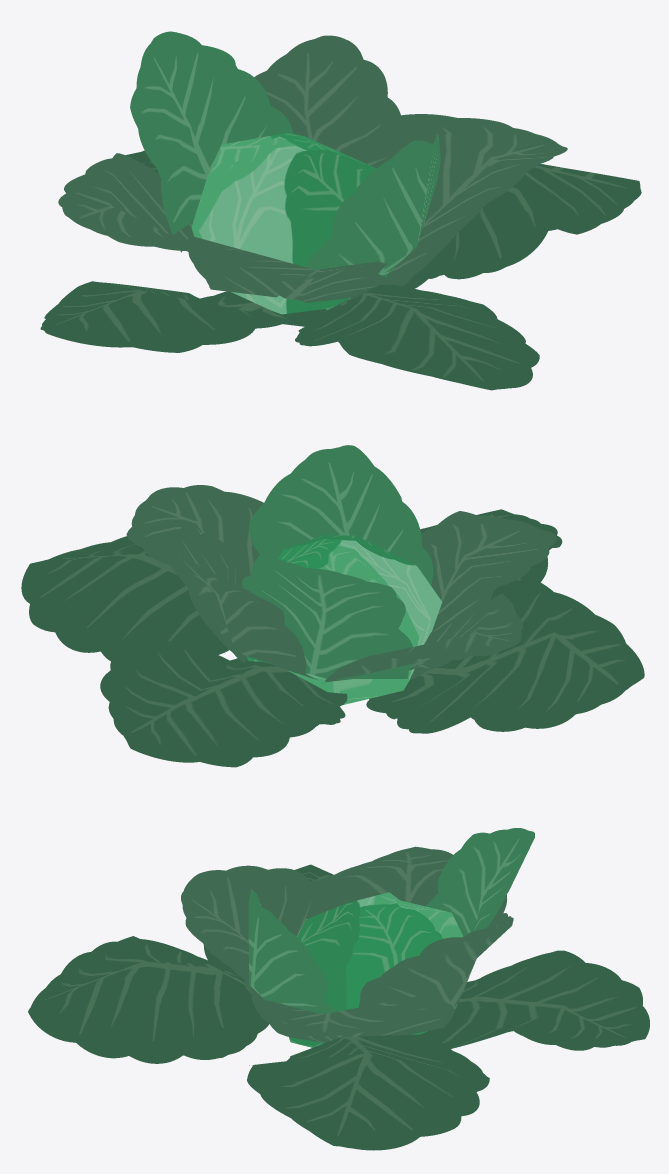
The model's file is PT_Cabbage_01.fbx.
The picture shows the model from 3 angles, top to bottom: view 1: azimuth 30°, elevation 25°; view 2: azimuth 150°, elevation 25°; view 3: azimuth 270°, elevation 25°; orthographic projection. The views are drawn at different scales.
Parts seen in each view (by area): view 1: PT_Cabbage_01_LOD0; view 2: PT_Cabbage_01_LOD0; view 3: PT_Cabbage_01_LOD0.
Boxes of the visible parts, x1,y1,x2,y2 form: PT_Cabbage_01_LOD0: [40, 31, 641, 390]; PT_Cabbage_01_LOD0: [21, 445, 644, 767]; PT_Cabbage_01_LOD0: [28, 828, 649, 1150].
Size of what is drawn, in the model's own units: 109 by 38.77 by 105.
